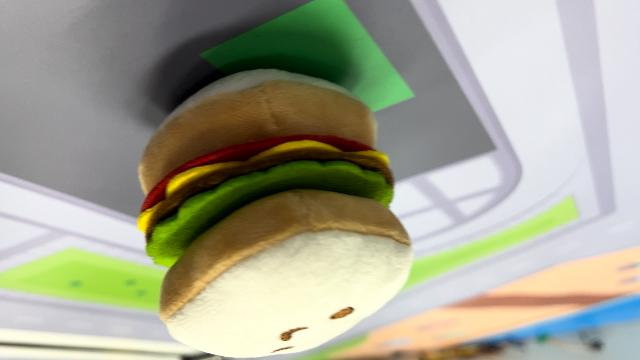sandwich: (134, 66, 416, 356)
